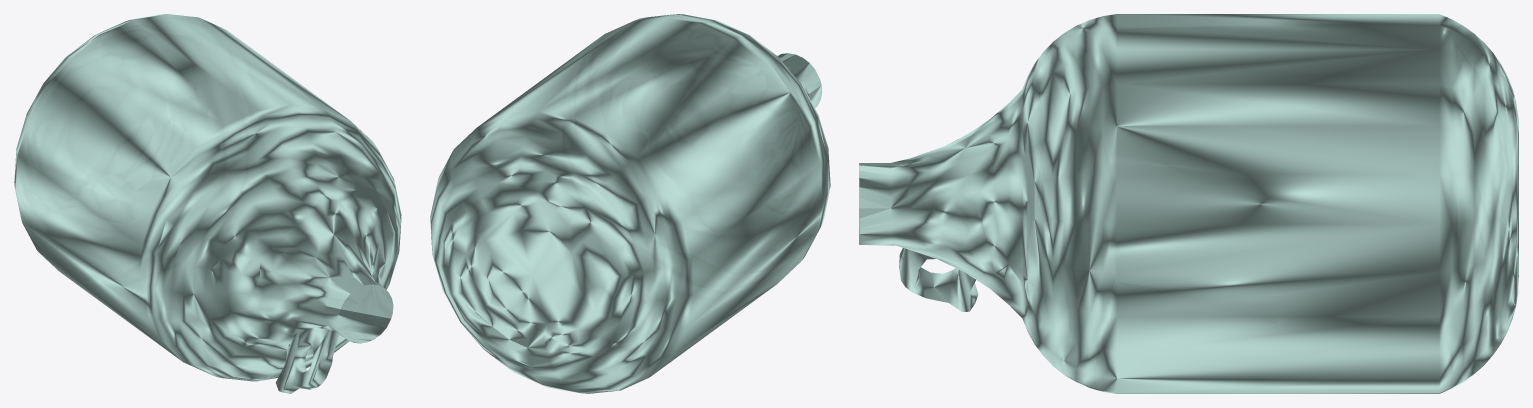
Rendered from model_align.obj.
3 views of the same model, side by side, from view 1: azimuth 30°, elevation 25°; view 2: azimuth 150°, elevation 25°; view 3: azimuth 270°, elevation 25° (orthographic). The views are drawn at different scales.
Bounding box in the file's own units: 0.1204 × 0.1204 × 0.2083.
